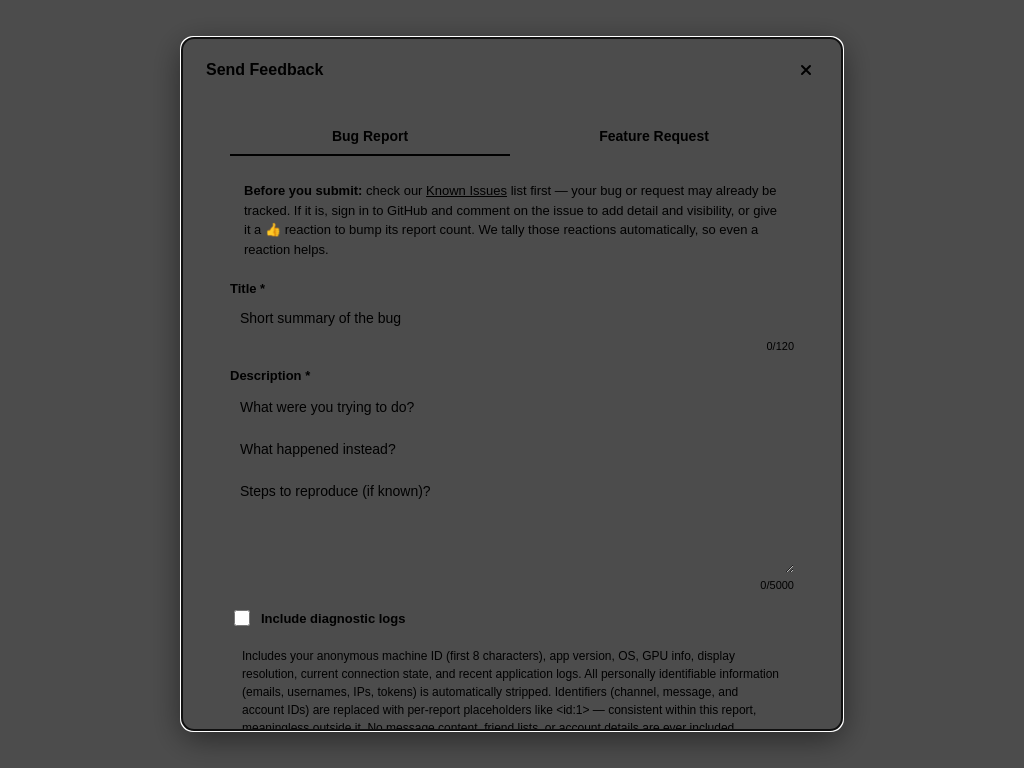
Test: FeedbackModal › mode switching › shows the bug form in bug mode and the feature form in feature mode
Expected: the button "Submit Feature Request" is not shown
Click the tab "Feature Request": x=654, y=137 [514,118,794,156]
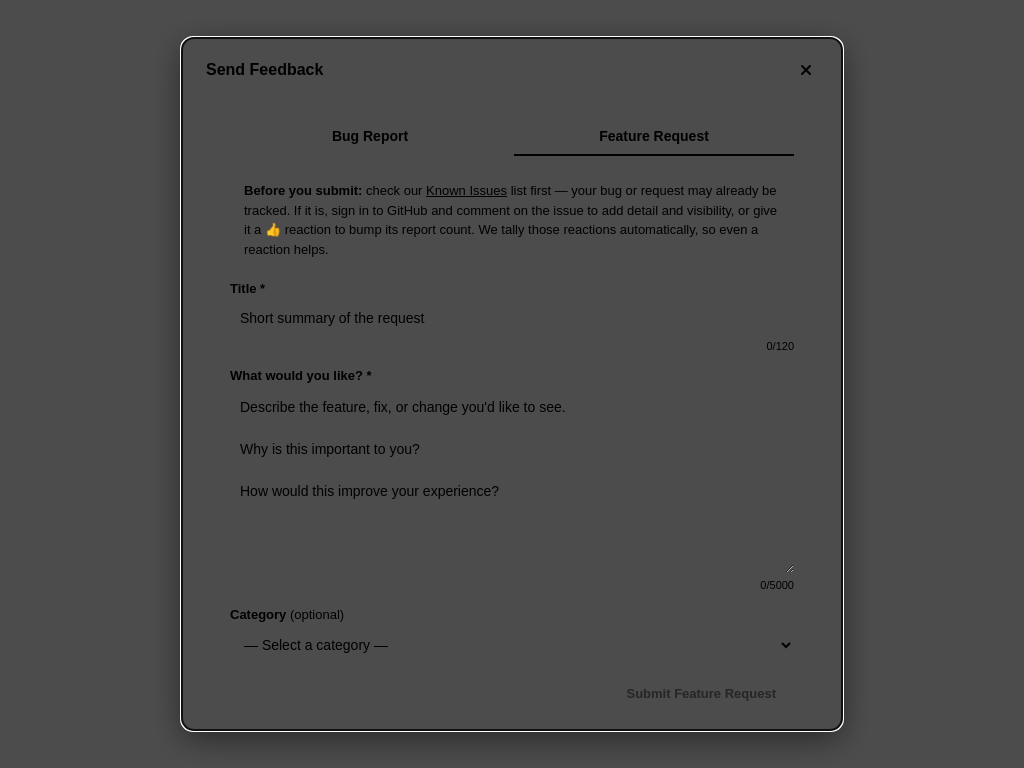
Expected: the button "Submit Feature Request" is shown, [608,678,794,709]
